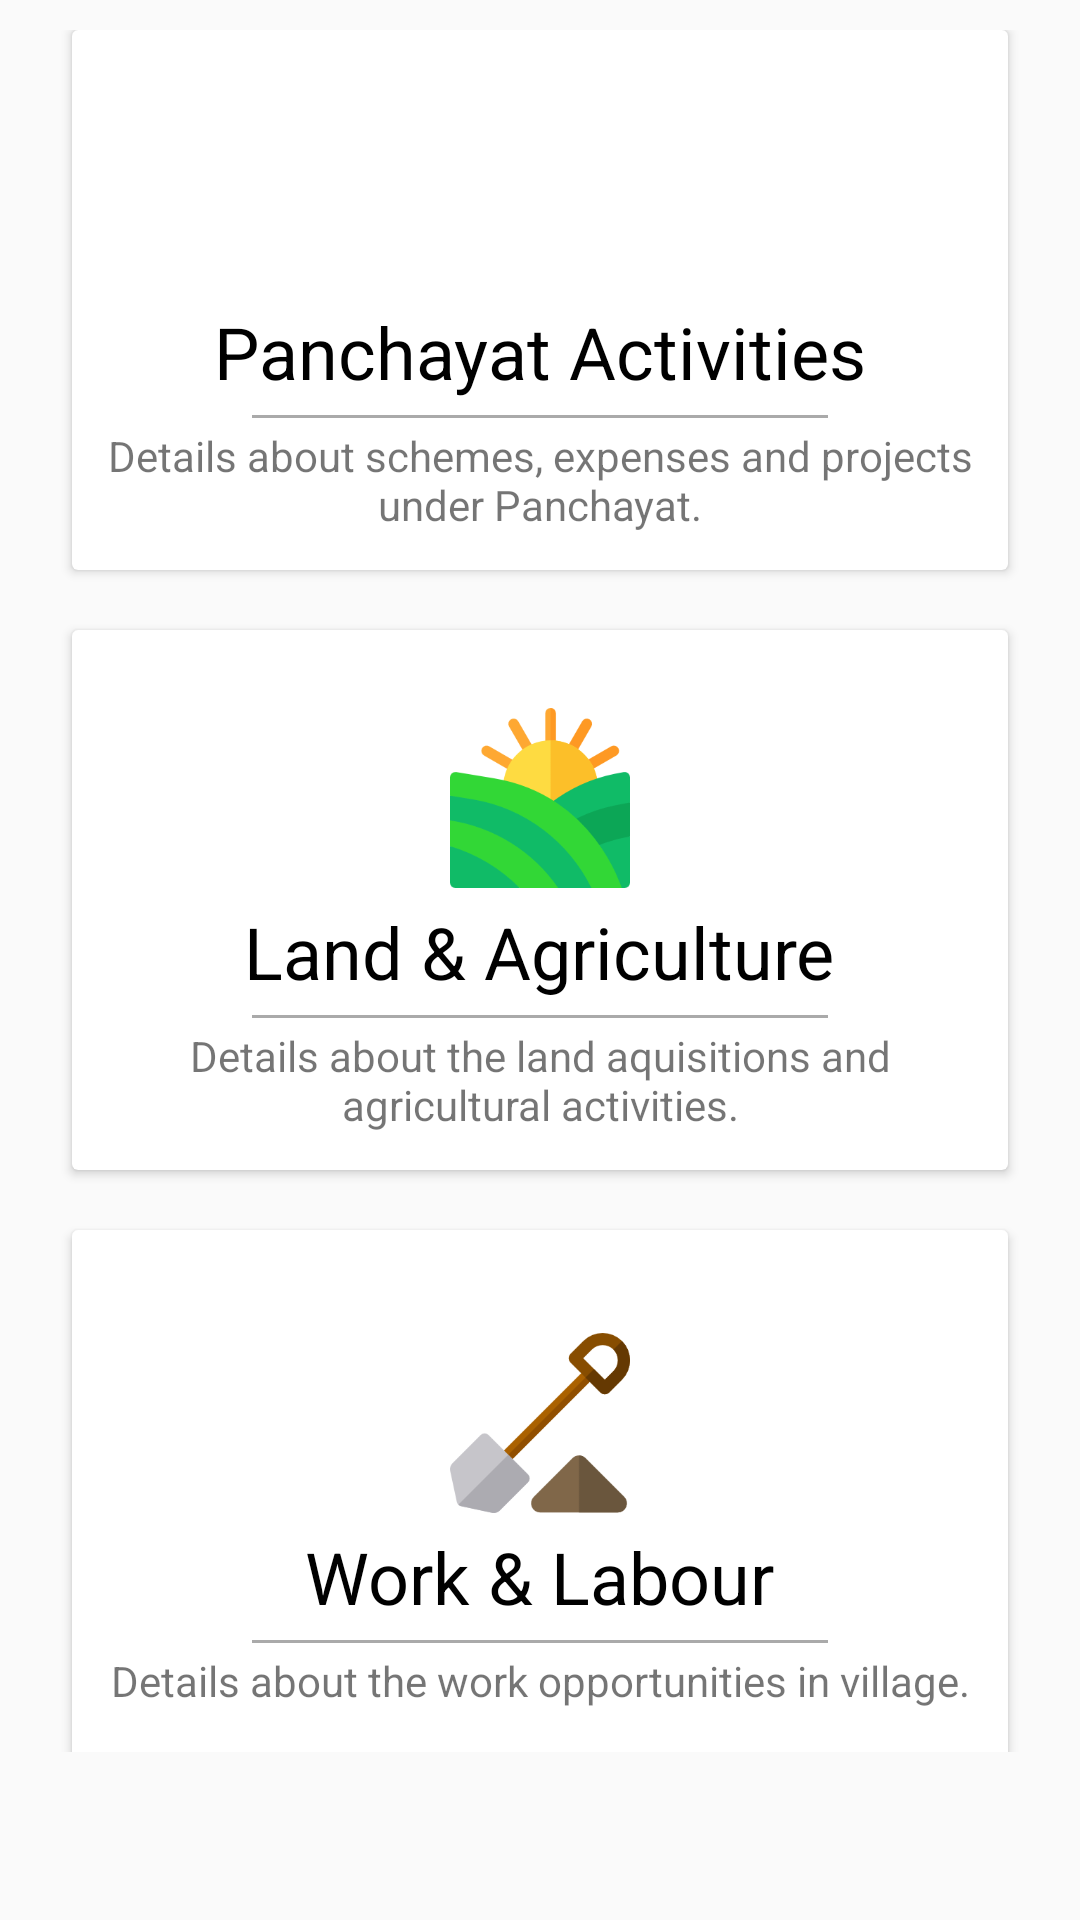

Screen size 1080 x 1920. Icon name, then its center in pixels as point (x, y):
field: point (540, 798)
shovel: point (540, 1423)
